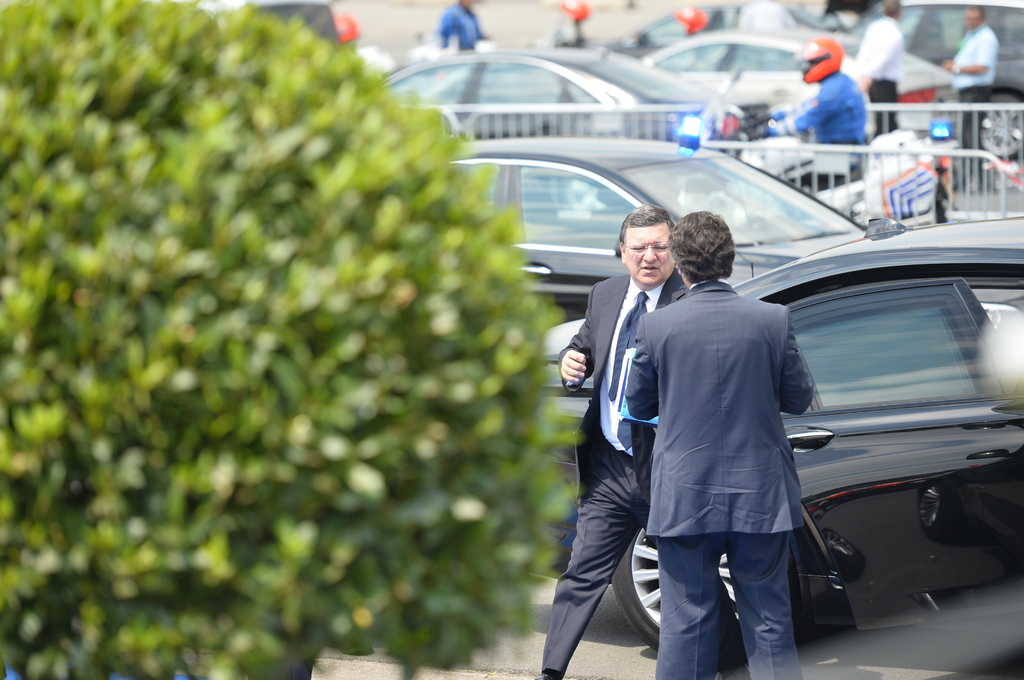Car: (542, 214, 1023, 654), (456, 111, 881, 324), (373, 44, 758, 143), (640, 24, 976, 112), (952, 53, 1023, 156)
